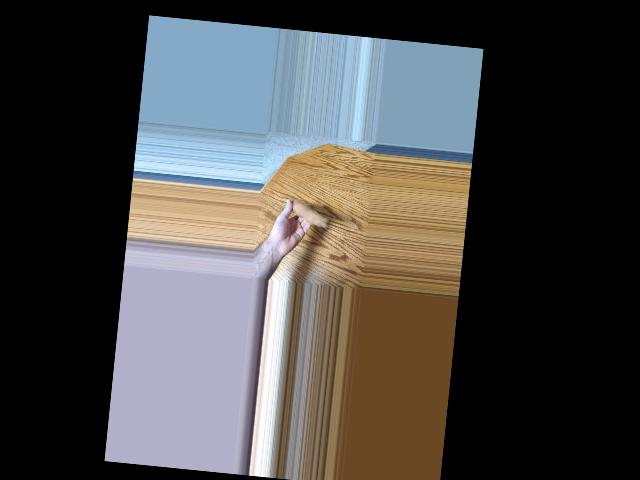sweet_potato: (285, 198, 330, 230)
